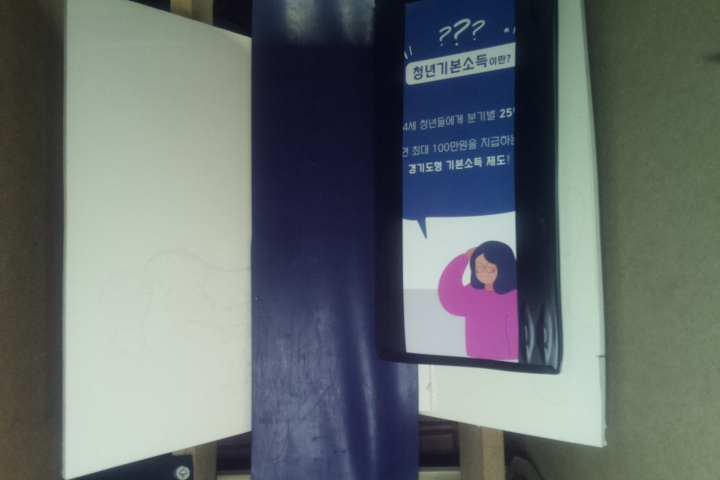book: (377, 1, 565, 374)
